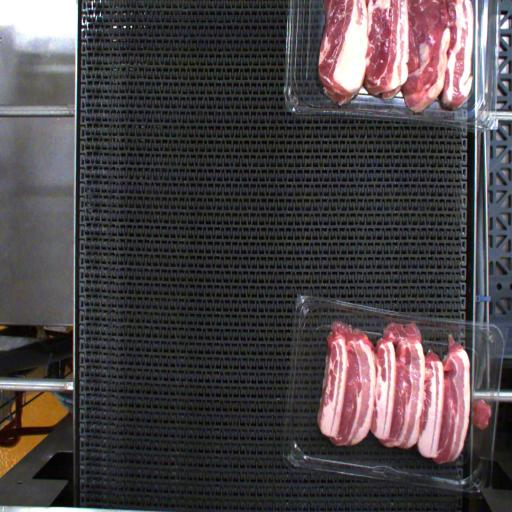loose-meat: (468, 388, 495, 433)
